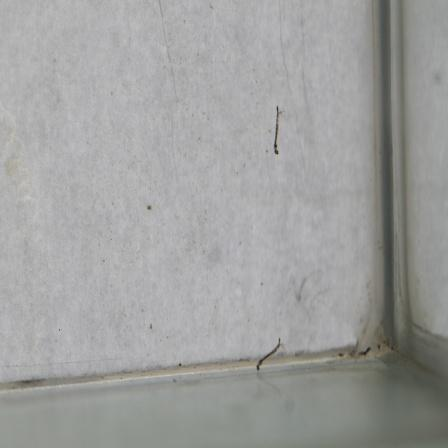Jentik-Nyamuk: (253, 335, 284, 375), (269, 104, 283, 161)
